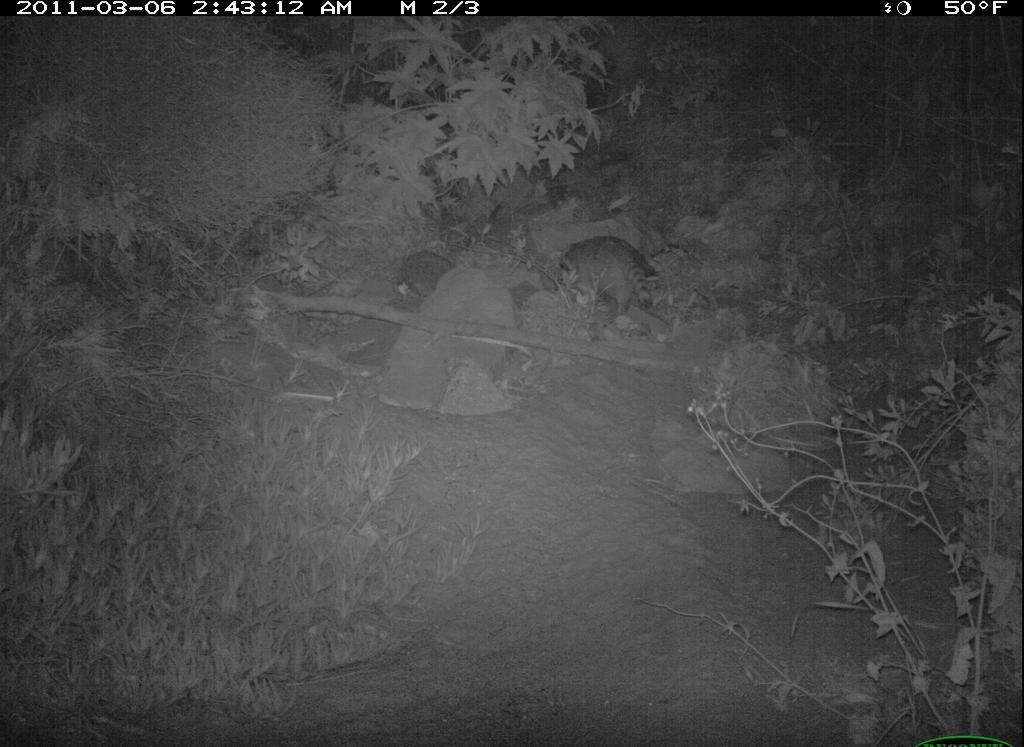raccoon: (553, 223, 671, 342)
